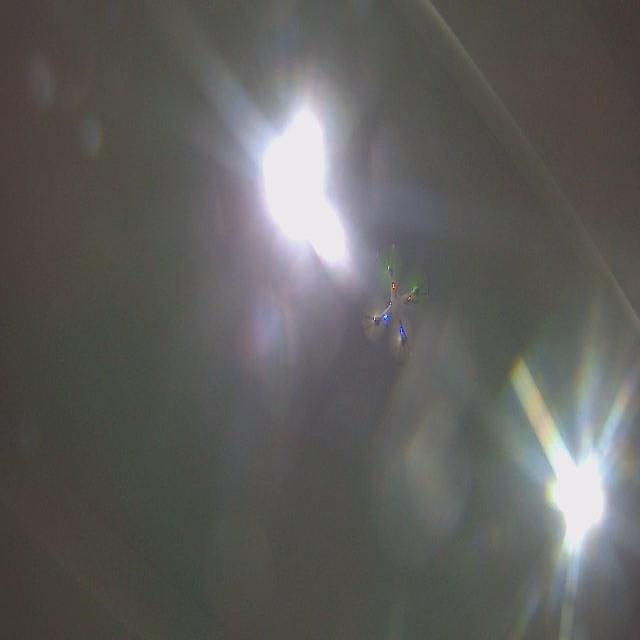drone: (358, 238, 432, 367)
